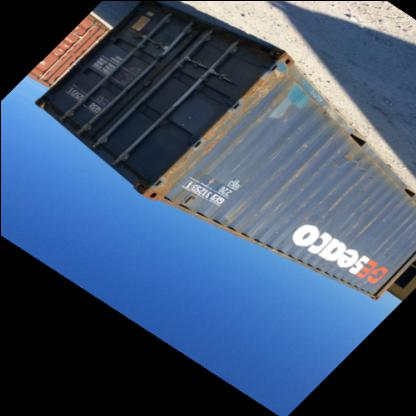Damage: (147, 64, 288, 196), (311, 158, 365, 222), (370, 212, 412, 258), (254, 198, 290, 222), (218, 203, 244, 230), (288, 156, 308, 190), (317, 108, 332, 127)
